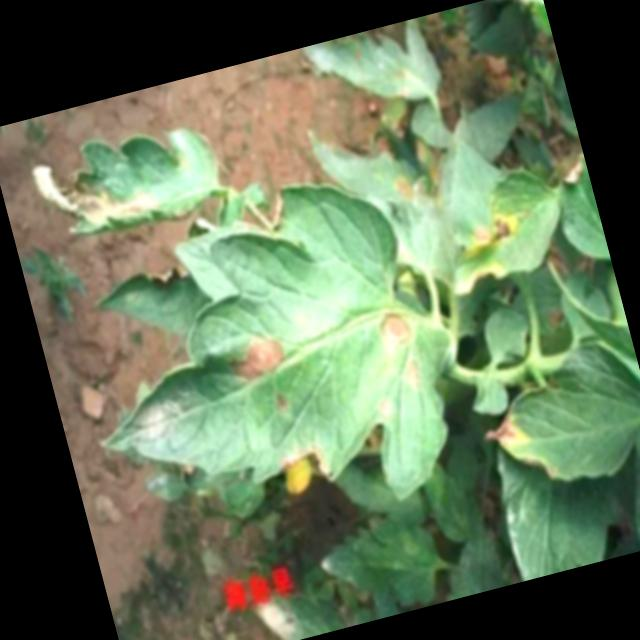Early_blight: (30, 138, 157, 237), (222, 323, 293, 389), (274, 435, 336, 494), (476, 404, 530, 453), (371, 304, 417, 359), (465, 210, 518, 257), (261, 187, 292, 231), (401, 357, 427, 395), (373, 390, 397, 421)
